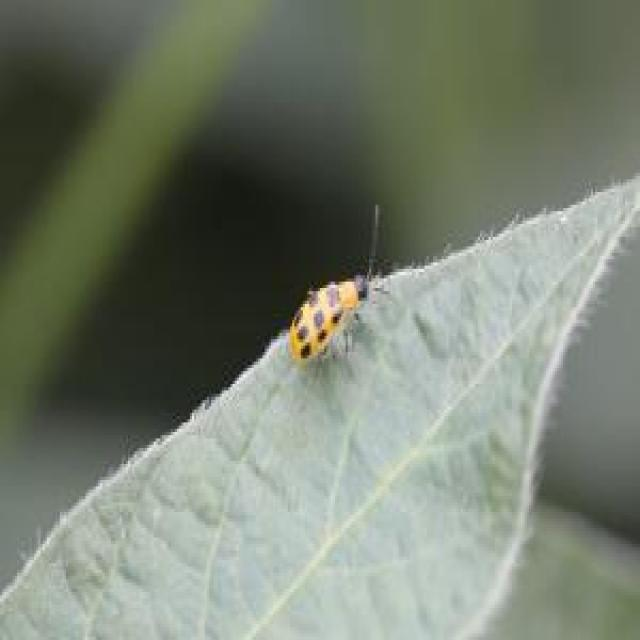gusano_verde: (280, 203, 399, 383)
